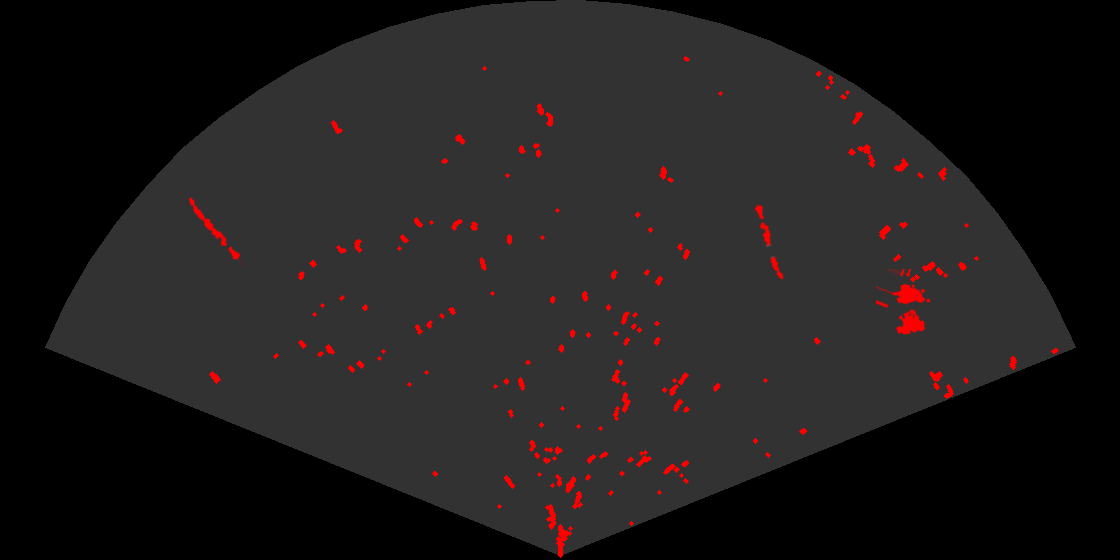cage: (876, 269, 932, 336)
chain: (187, 196, 246, 270), (753, 202, 785, 281)
